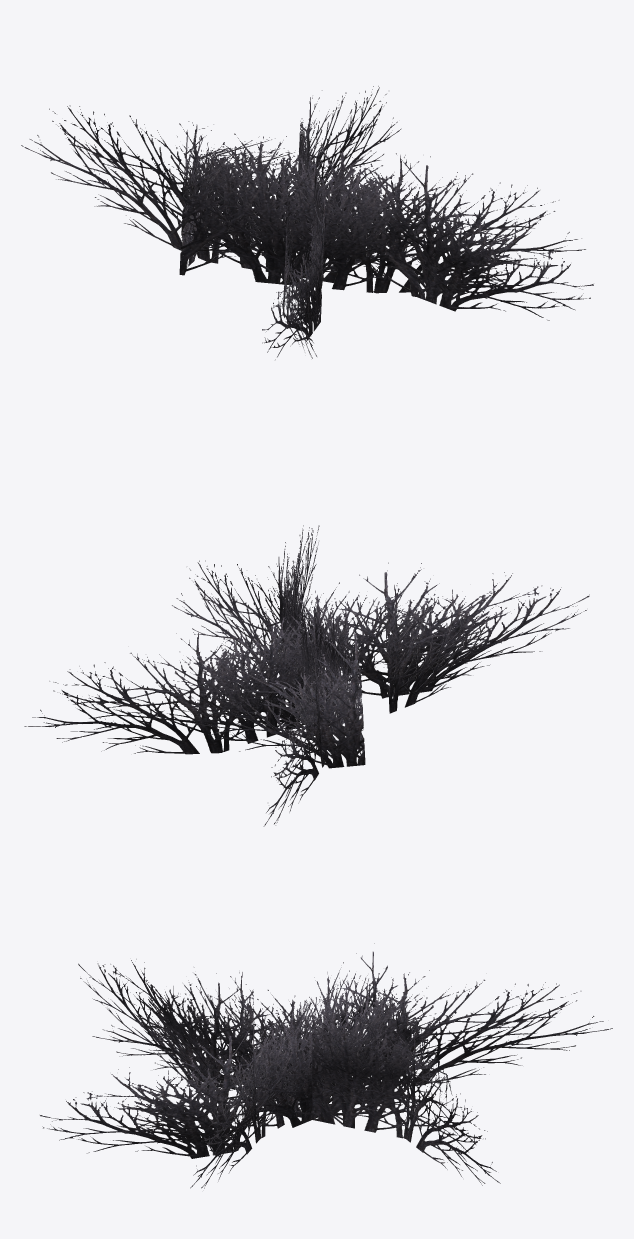
File: snow bushes.fbx
The picture shows the model from 3 angles, top to bottom: view 1: azimuth 30°, elevation 25°; view 2: azimuth 150°, elevation 25°; view 3: azimuth 270°, elevation 25°; orthographic projection. The views are drawn at different scales.
Parts seen in each view (by area): view 1: snowbush2_snowbush_0.004; view 2: snowbush2_snowbush_0.004; view 3: snowbush2_snowbush_0.004.
Boxes of the visible parts, x1,y1,x2,y2 form: snowbush2_snowbush_0.004: (21,86,593,359); snowbush2_snowbush_0.004: (24,525,589,826); snowbush2_snowbush_0.004: (40,943,612,1188).
Size of the model in its own units: 14503 by 5658 by 20072.
